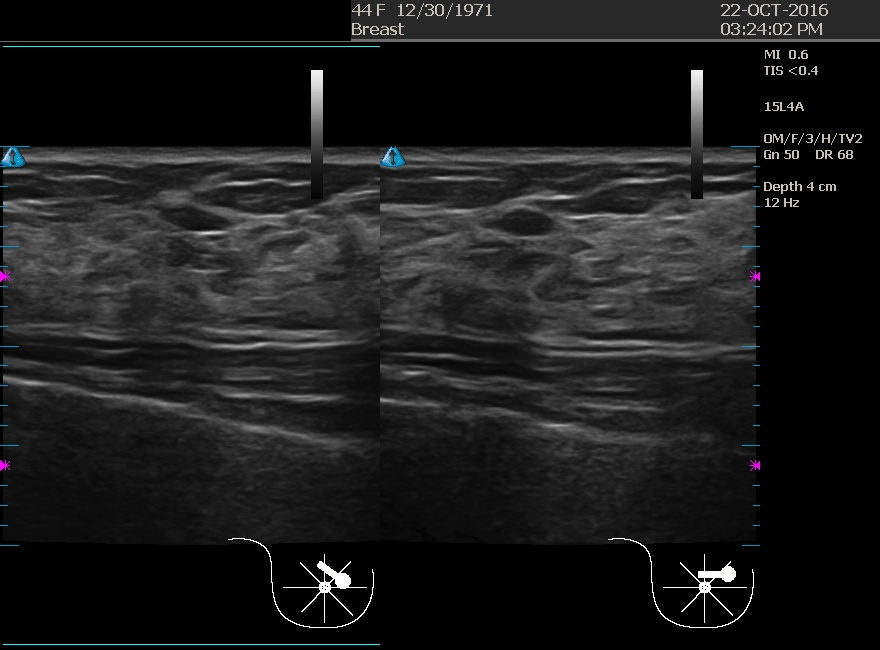Benign: (86, 155, 286, 355), (413, 170, 613, 370)
